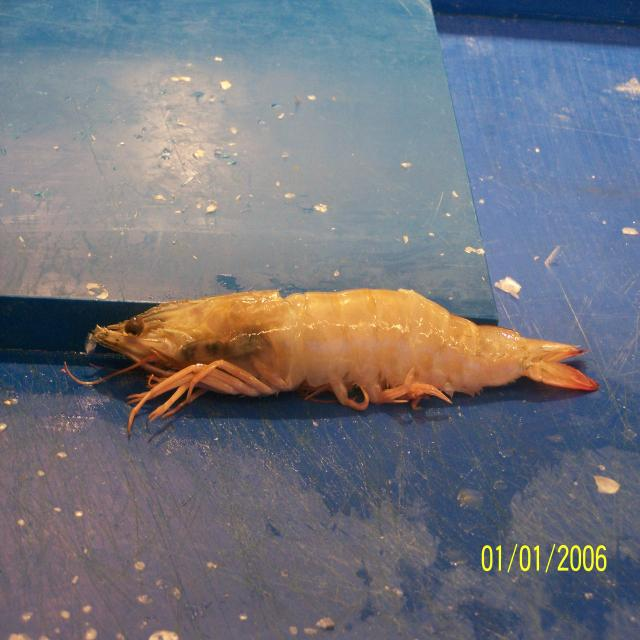Shrimp-karides-: (85, 289, 598, 429)
